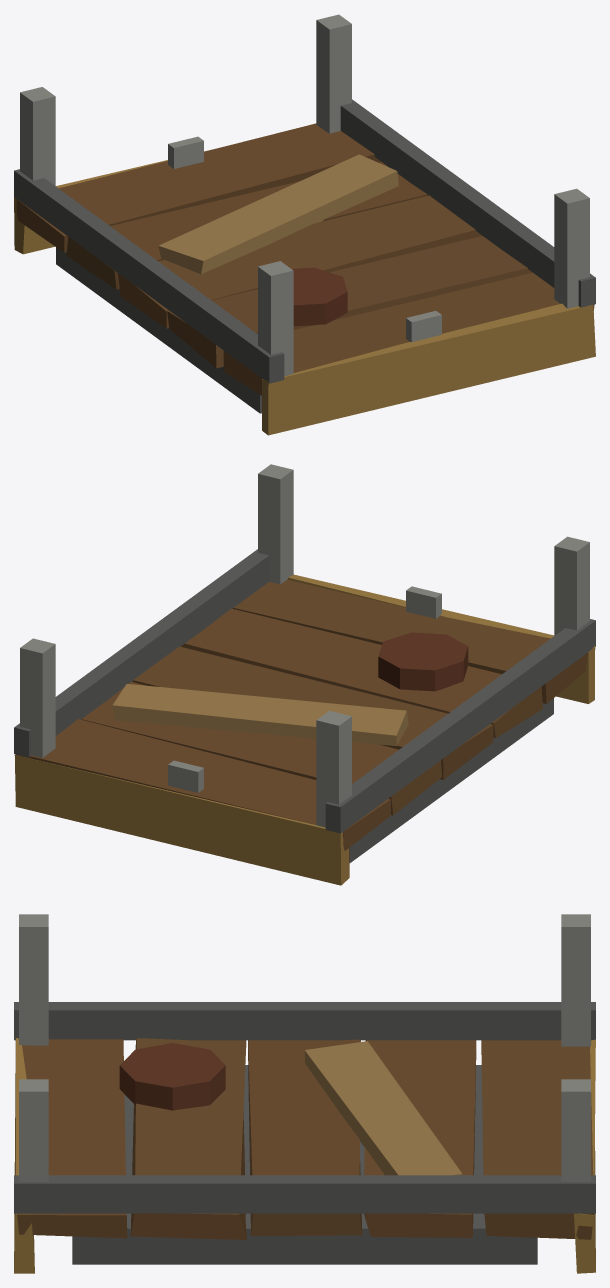
Rendered from cargo_flatbed.glb.
3 renders of one model, top to bottom at view 1: azimuth 30°, elevation 25°; view 2: azimuth 150°, elevation 25°; view 3: azimuth 270°, elevation 25°, orthographic. The views are drawn at different scales.
Parts seen in each view (by area): view 1: cargo_flatbed; view 2: cargo_flatbed; view 3: cargo_flatbed.
Boxes of the visible parts, x1,y1,x2,y2 form: cargo_flatbed: (14, 14, 595, 435); cargo_flatbed: (14, 464, 595, 885); cargo_flatbed: (14, 914, 595, 1273).
Bounding box in the file's own units: 0.65 × 0.3 × 0.88.
